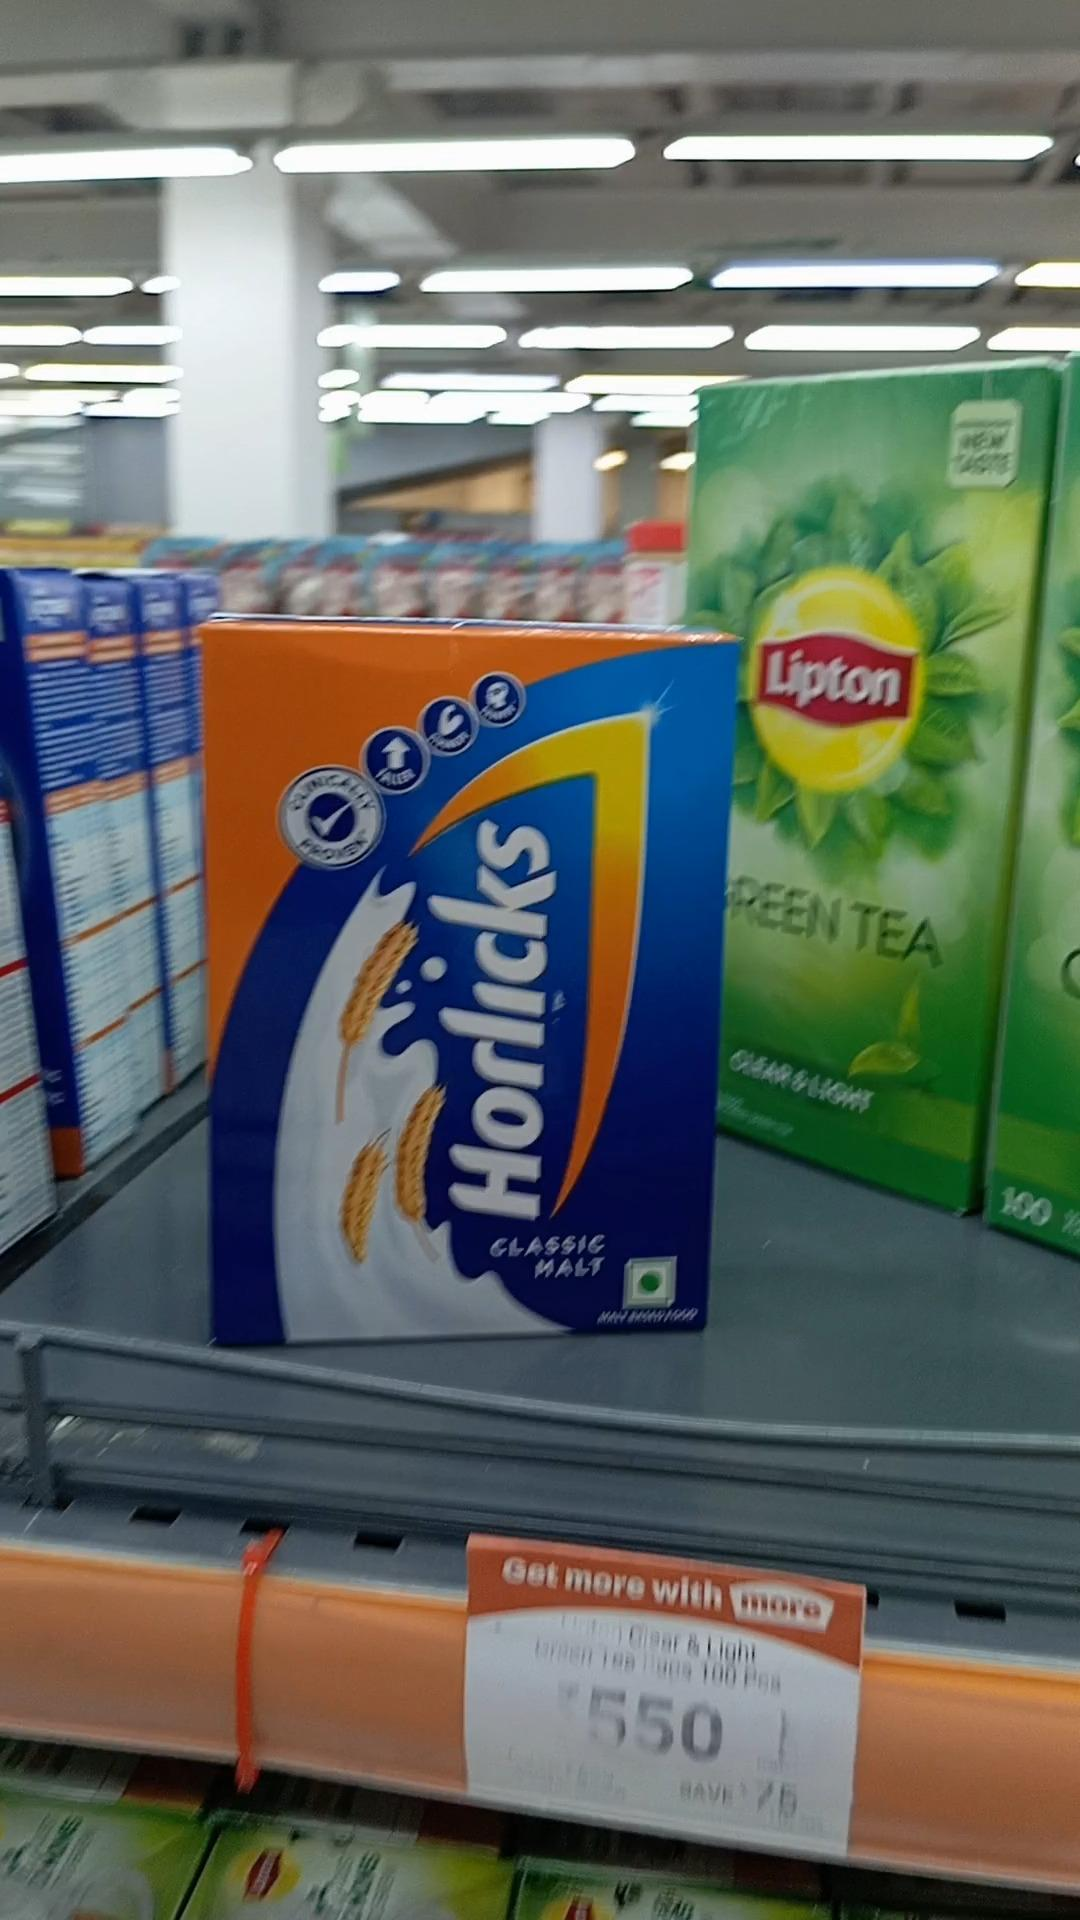HORLICK_CLASSIC_MALT_500_G_PACK: (206, 633, 729, 1346)
